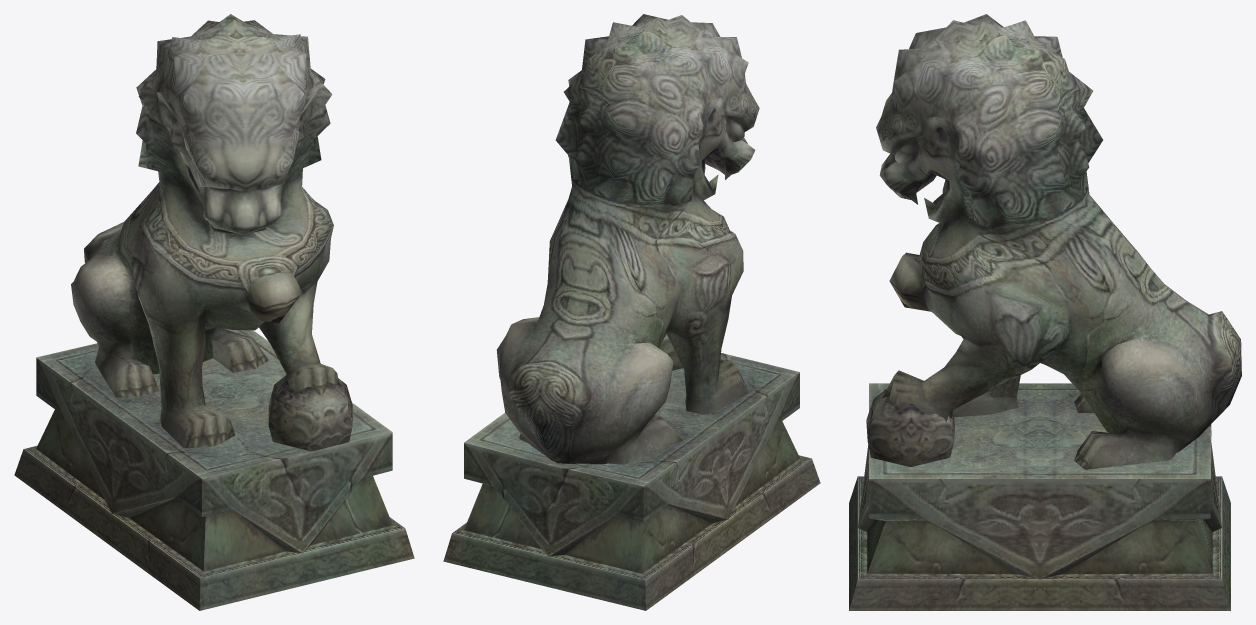
The model's file is diao_xiang_003.FBX.
The picture shows the model from 3 angles, left to right: view 1: azimuth 30°, elevation 25°; view 2: azimuth 150°, elevation 25°; view 3: azimuth 270°, elevation 25°; orthographic projection. The views are drawn at different scales.
Visible parts, largest first — view 1: diao_xiang_003; view 2: diao_xiang_003; view 3: diao_xiang_003.
Boxes of the visible parts, x1,y1,x2,y2 form: diao_xiang_003: (14,14,414,610); diao_xiang_003: (443,14,820,610); diao_xiang_003: (849,14,1241,610).
Bounding box in the file's own units: 100 × 226 × 154.
